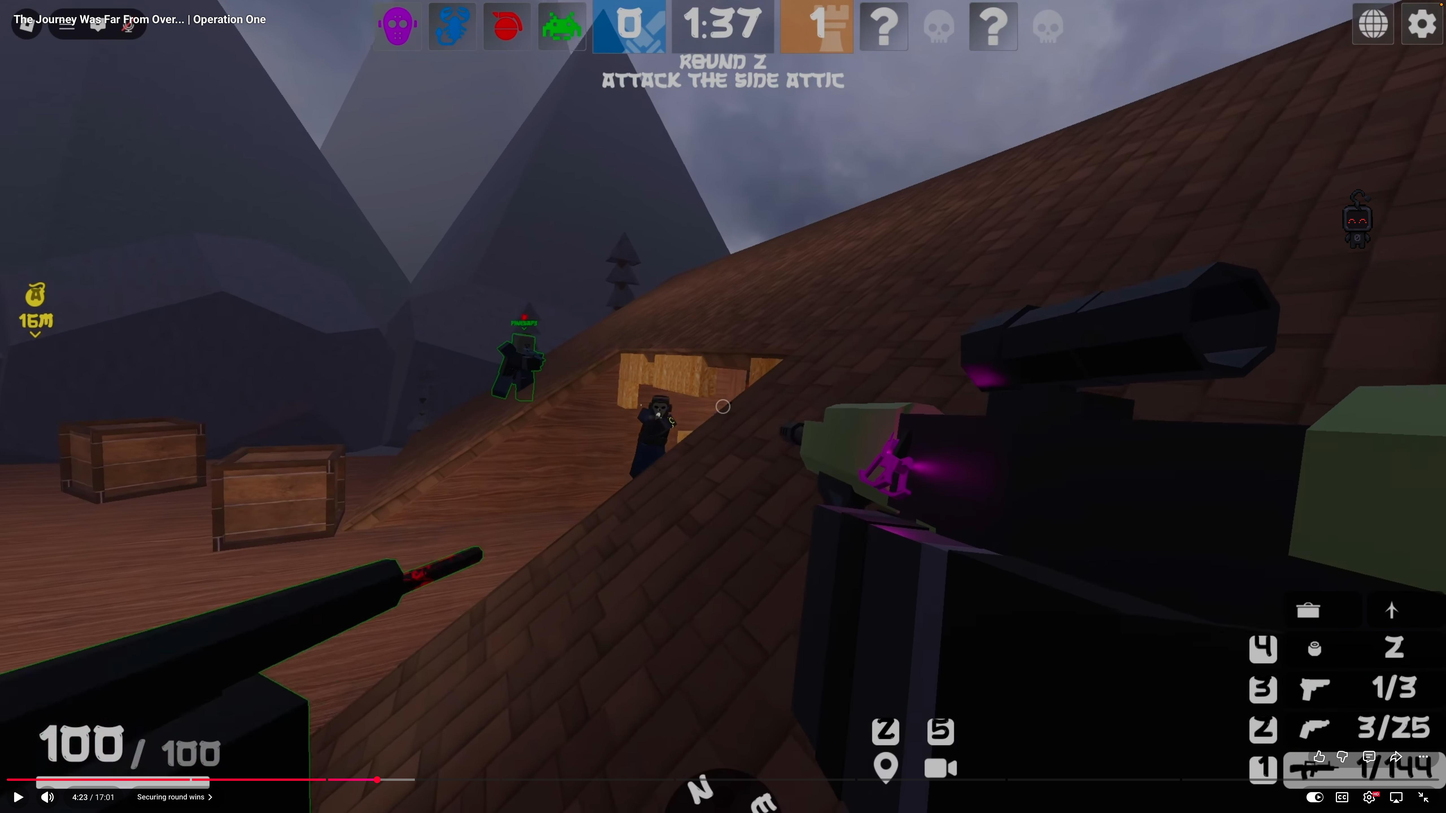enemy: (628, 387, 679, 492)
